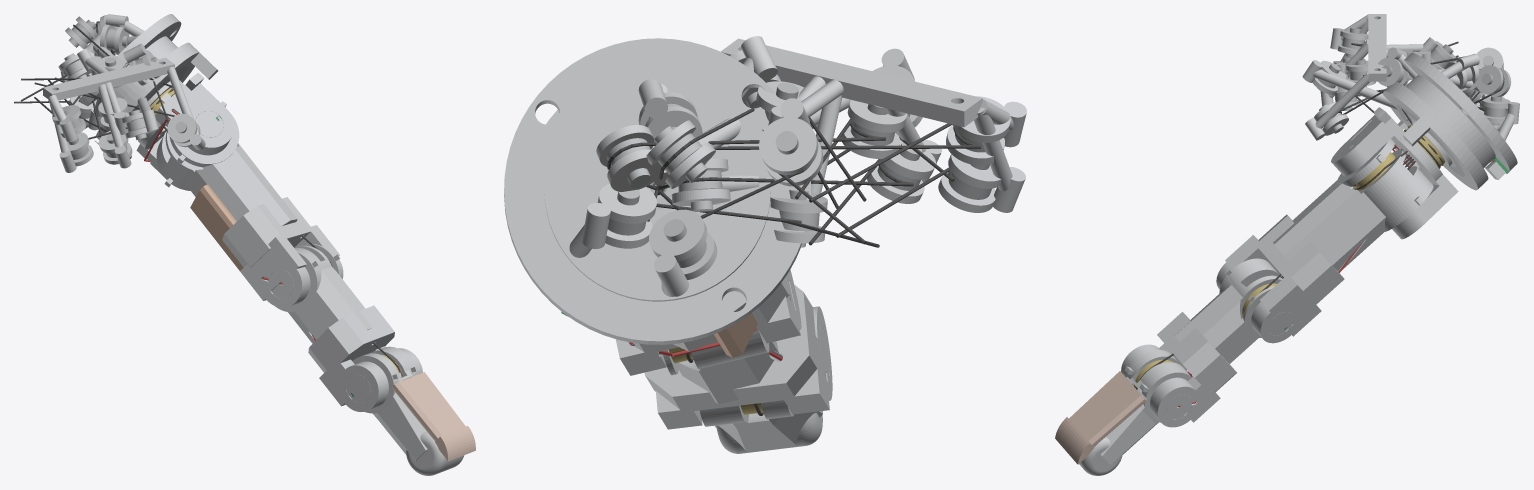
Rendered from thumb_v21_q0.glb.
3 views of the same model, side by side, from view 1: azimuth 30°, elevation 25°; view 2: azimuth 150°, elevation 25°; view 3: azimuth 270°, elevation 25° (orthographic). The views are drawn at different scales.
Parts seen in each view (by area): view 1: thumb_metacarpal, thumb_proximal, turning_block_A, thumb_mount, thumb_distal, tip_skin, thumb_base, thenar_pad, wire_keeper_mcp, sensor_plug_cmc, sensor_plug_ip; view 2: thumb_mount, turning_block_A, thumb_proximal, thumb_distal, thumb_metacarpal, thumb_cmc_flex_ext, thumb_mcp_flex_flex, thumb_ip_ext, thenar_pad, thumb_mcp_flex_ext, thumb_cmc_flex_flex, thumb_cmc_rot_ext (+3 smaller); view 3: thumb_metacarpal, thumb_mount, thumb_proximal, turning_block_A, thumb_base, thumb_distal, tip_skin, wire_keeper_ip.
Boxes of the visible parts, box(x1,y1,x2,y2) form: thumb_metacarpal: box(156, 101, 343, 307); thumb_proximal: box(275, 243, 422, 411); turning_block_A: box(43, 48, 205, 172); thumb_mount: box(60, 14, 217, 158); thumb_distal: box(352, 346, 464, 475); tip_skin: box(392, 372, 475, 461); thumb_base: box(136, 72, 234, 188); thenar_pad: box(190, 184, 243, 270); wire_keeper_mcp: box(268, 269, 293, 298); sensor_plug_cmc: box(195, 111, 223, 137); sensor_plug_ip: box(346, 374, 370, 402); thumb_mount: box(504, 36, 922, 344); turning_block_A: box(720, 38, 1026, 243); thumb_proximal: box(644, 285, 832, 429); thumb_distal: box(699, 400, 822, 453); thumb_metacarpal: box(615, 185, 801, 375); thumb_cmc_flex_ext: box(654, 123, 981, 202); thumb_mcp_flex_flex: box(658, 159, 913, 245); thumb_ip_ext: box(607, 119, 886, 415); thenar_pad: box(714, 313, 757, 357); thumb_mcp_flex_ext: box(656, 105, 866, 362); thumb_cmc_flex_flex: box(658, 170, 865, 243); thumb_cmc_rot_ext: box(827, 137, 954, 237); thumb_metacarpal: box(1216, 139, 1433, 343); thumb_mount: box(1302, 47, 1519, 190); thumb_proximal: box(1121, 258, 1282, 427); turning_block_A: box(1305, 14, 1456, 140); thumb_base: box(1331, 107, 1458, 239); thumb_distal: box(1079, 350, 1191, 475); tip_skin: box(1055, 371, 1146, 464); wire_keeper_ip: box(1166, 394, 1191, 419).
Size of the model in its own units: 89.54 by 107 by 127.
